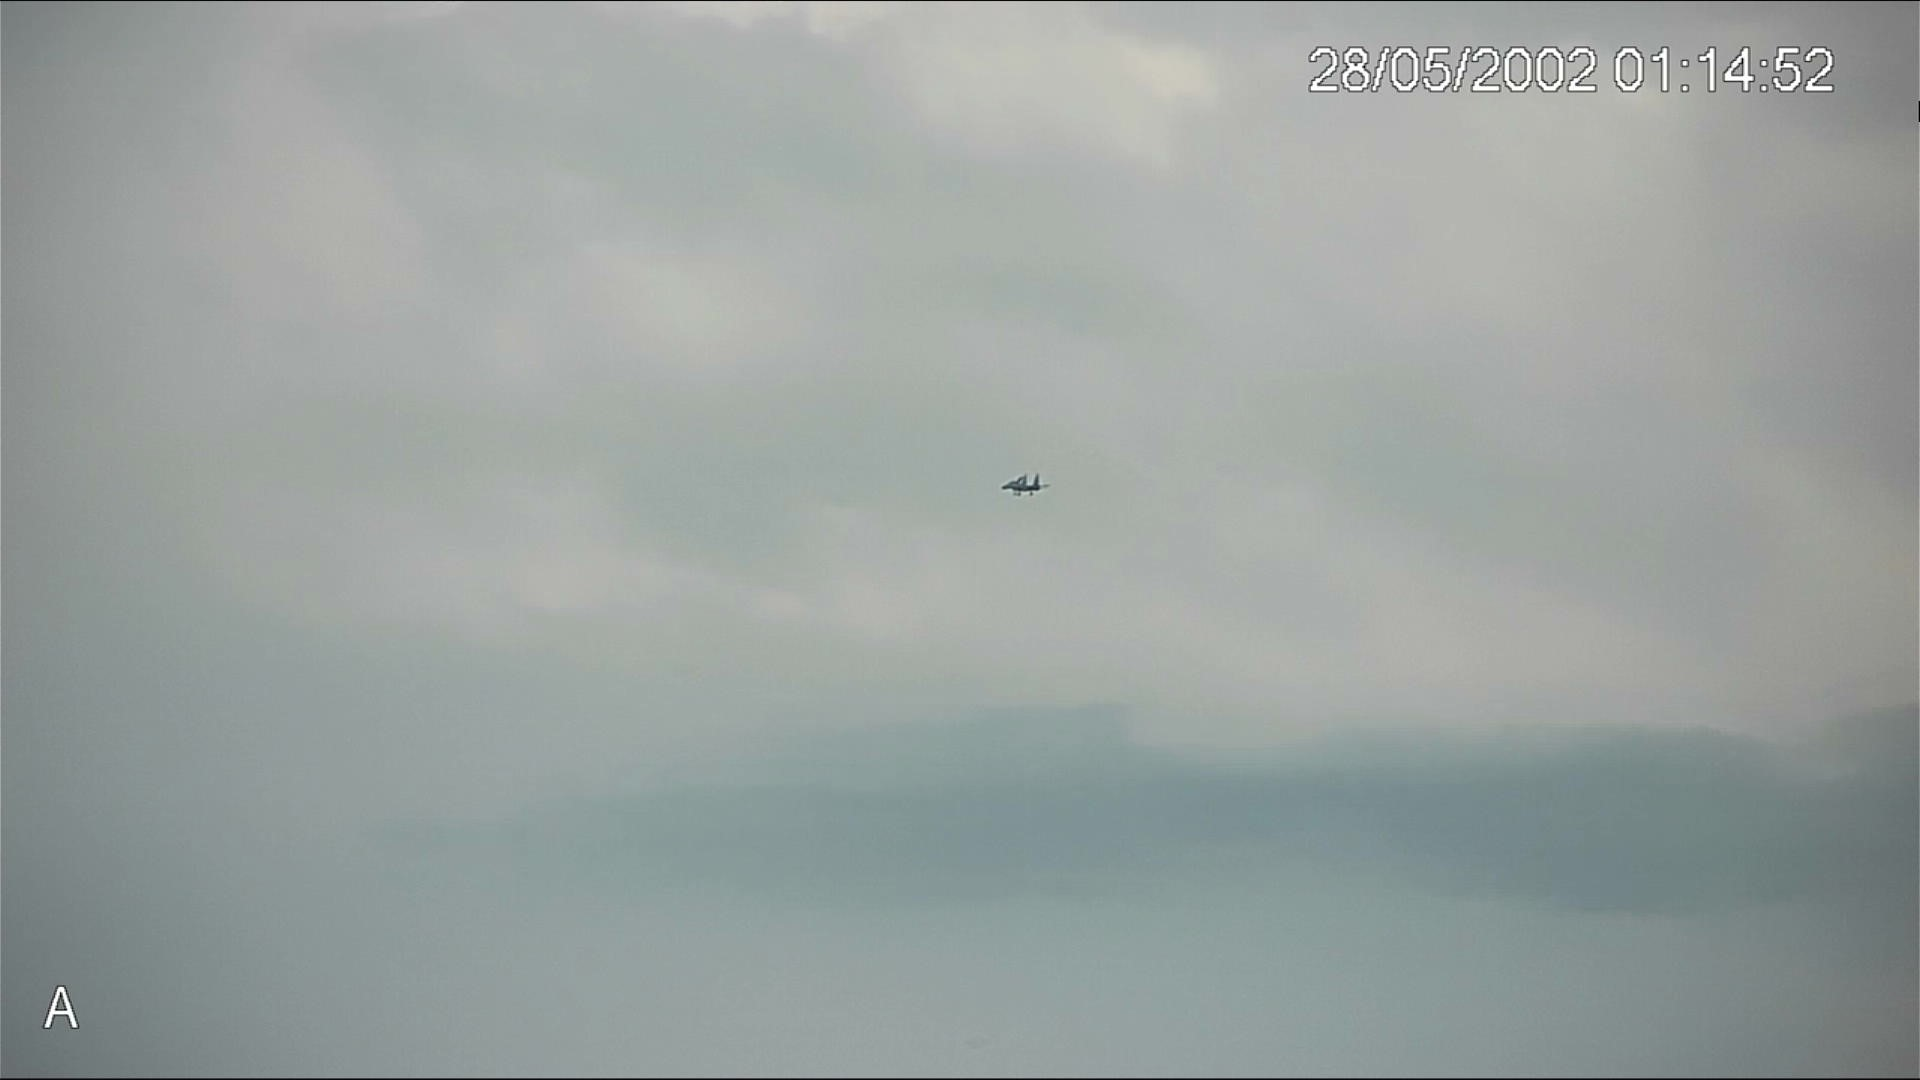SU_30: (996, 473, 1054, 497)
